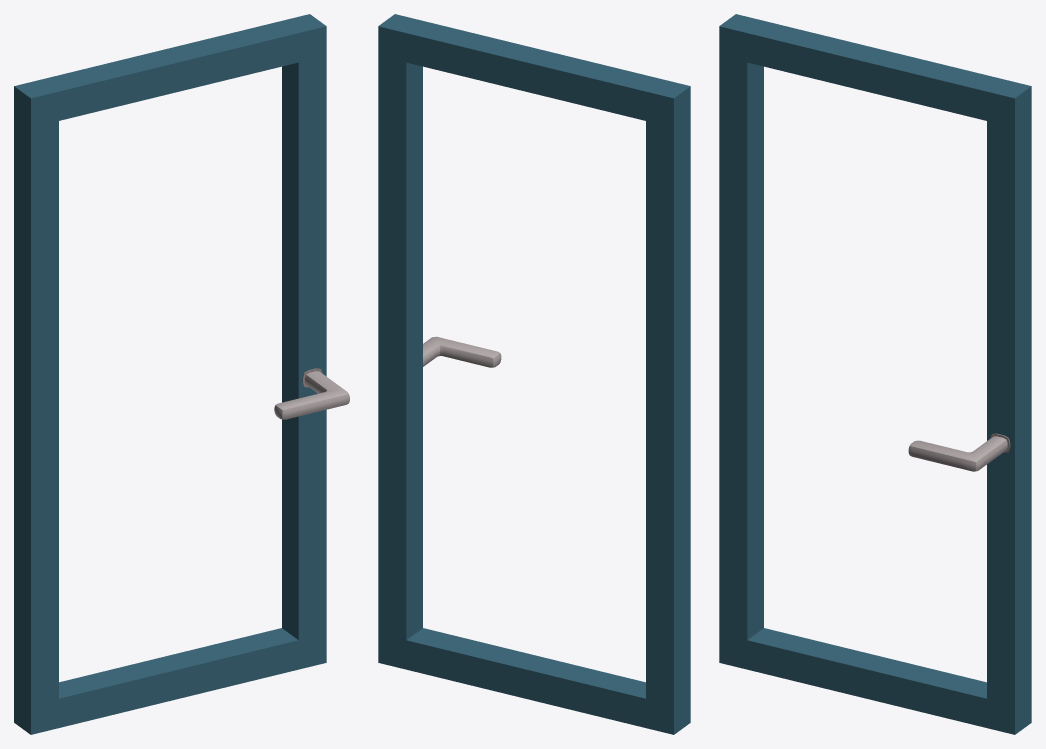
File: Ka_porte_bureau.fbx
3 renders of one model, left to right at view 1: azimuth 30°, elevation 25°; view 2: azimuth 150°, elevation 25°; view 3: azimuth 330°, elevation 25°, orthographic.
Parts seen in each view (by area): view 1: Object001; view 2: Object001; view 3: Object001.
Boxes of the visible parts, x1,y1,x2,y2 form: Object001: (14, 14, 349, 734); Object001: (378, 14, 690, 734); Object001: (719, 14, 1031, 734).
Size of the model in its own units: 38.3 by 78.74 by 10.86.
